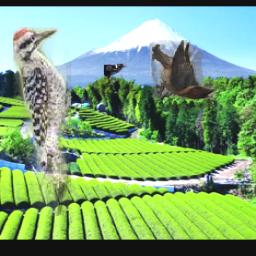Crow: (103, 63, 126, 83)
Swallow: (150, 41, 216, 100)
Woodpecker: (12, 28, 70, 217)
